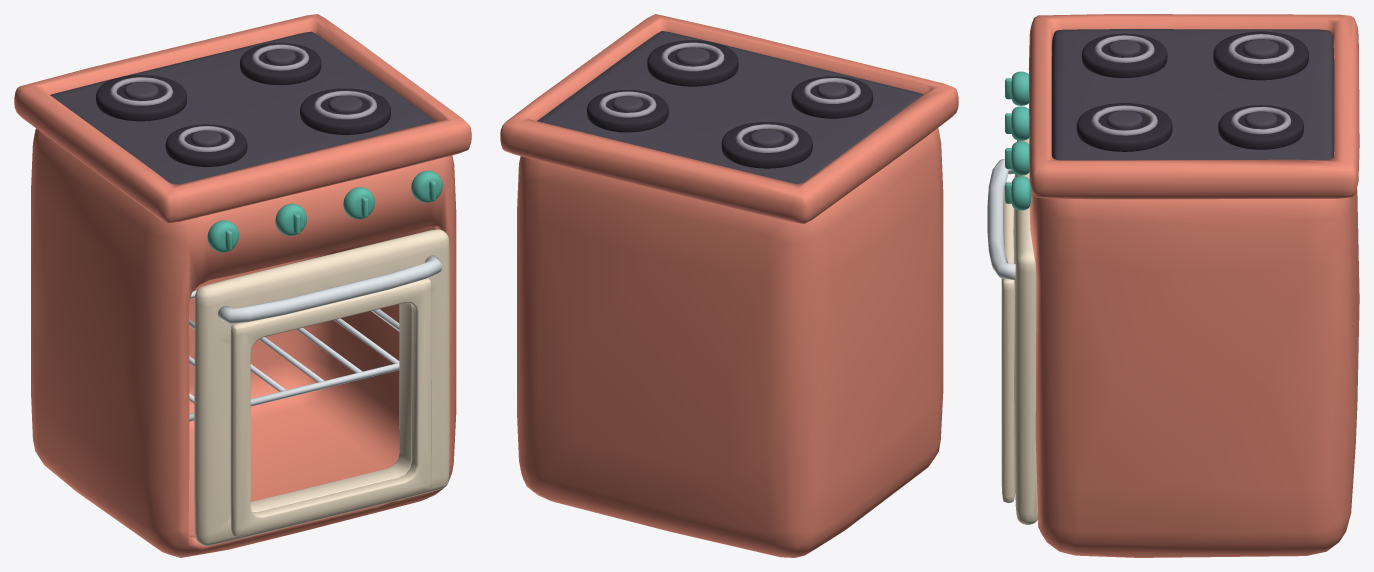
The model's file is stove_b.glb.
3 renders of one model, left to right at view 1: azimuth 30°, elevation 25°; view 2: azimuth 150°, elevation 25°; view 3: azimuth 270°, elevation 25°, orthographic. The views are drawn at different scales.
Parts seen in each view (by area): view 1: body, door; view 2: body; view 3: body, door.
Boxes of the visible parts, bbox=[...] form: body: bbox=[14, 14, 471, 557]; door: bbox=[194, 229, 449, 545]; body: bbox=[500, 14, 958, 557]; body: bbox=[1005, 14, 1359, 557]; door: bbox=[987, 138, 1038, 524].
Bounding box in the file's own units: 0.76 × 0.916 × 0.737.
